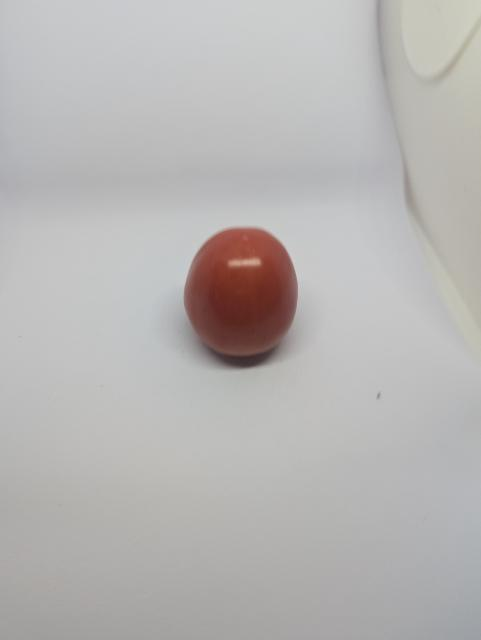red: (182, 226, 301, 360)
